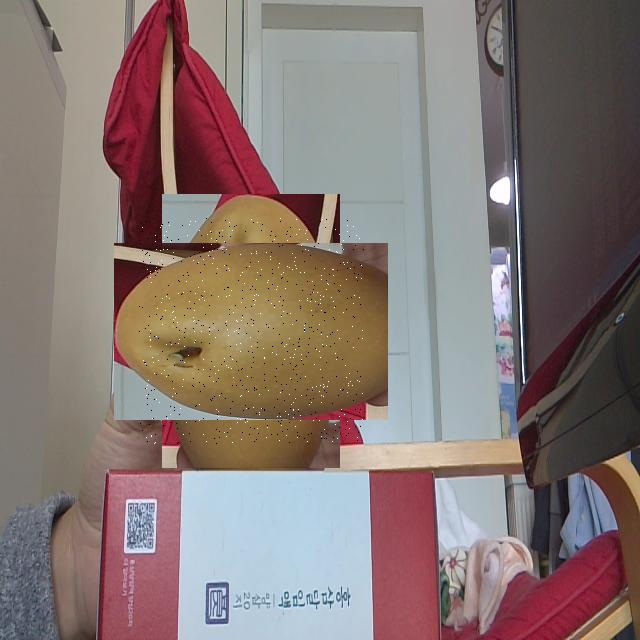pear: (138, 218, 364, 444)
